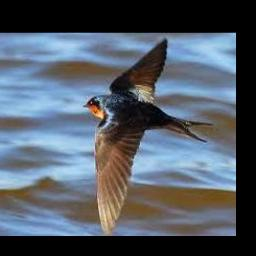Swallow: (83, 38, 212, 235)
